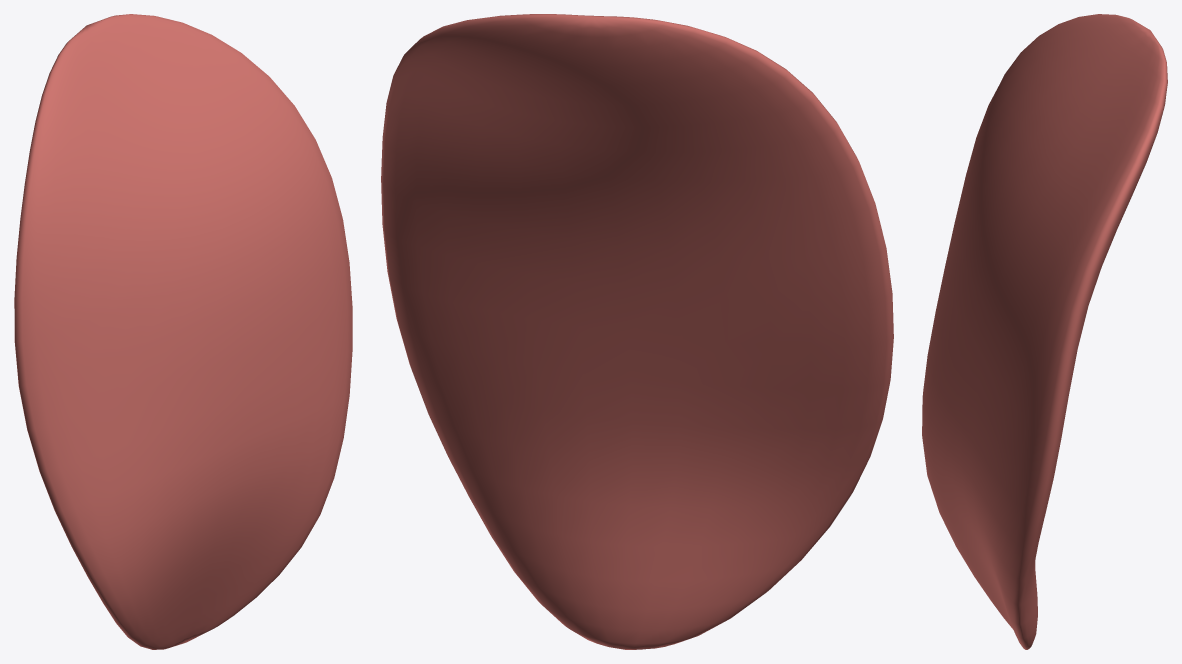
3 renders of one model, left to right at view 1: azimuth 30°, elevation 25°; view 2: azimuth 150°, elevation 25°; view 3: azimuth 270°, elevation 25°, orthographic. The views are drawn at different scales.
Parts seen in each view (by area): view 1: 左侧肩峰皮下囊; view 2: 左侧肩峰皮下囊; view 3: 左侧肩峰皮下囊.
Part boxes in pixels (left/top/right/bottom): 左侧肩峰皮下囊: left=14, top=14, right=352, bottom=649; 左侧肩峰皮下囊: left=381, top=14, right=893, bottom=649; 左侧肩峰皮下囊: left=922, top=14, right=1167, bottom=649.
Bounding box in the file's own units: 0.0445 × 0.0655 × 0.0247.
